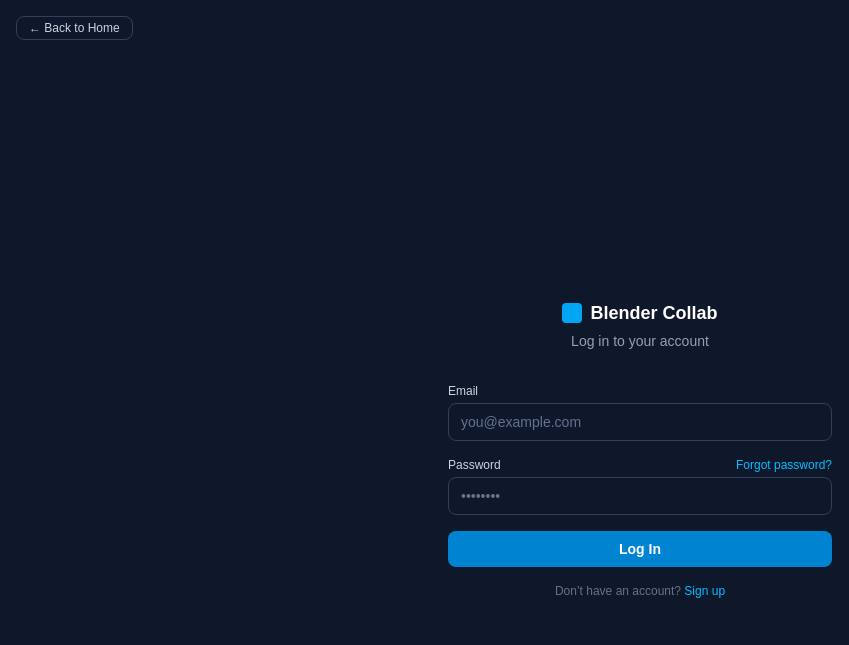
Test: LoginPage › shows resend verification button on EMAIL_NOT_VERIFIED error
The width and height of the screenshot is (849, 645).
In the field with placeholder "you@example.com": (640, 422) [448,403,832,441], type "unverified@test.com"
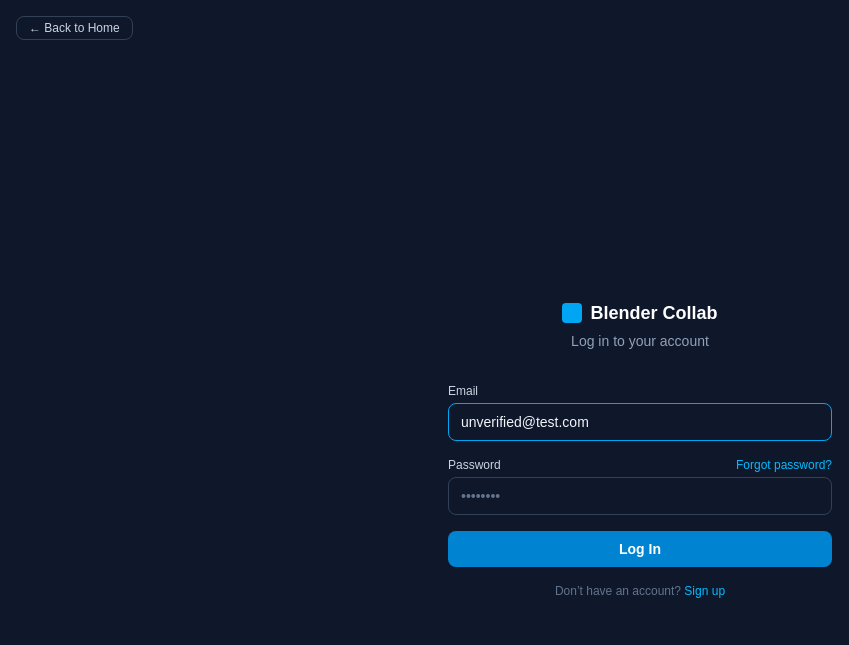
In the password field with placeholder "••••••••": (640, 496) [448,477,832,515], type "pass"
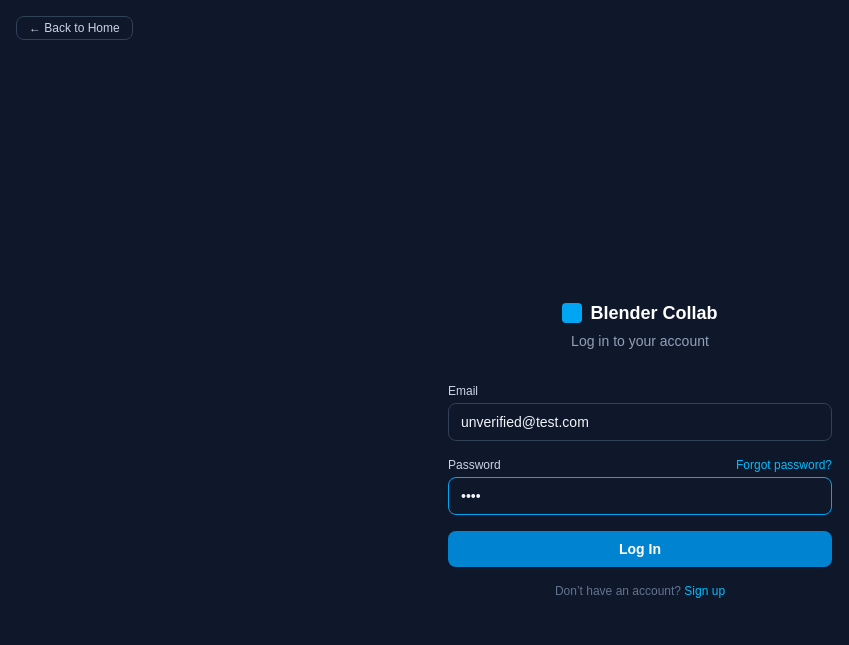
Click the button "Log In": (640, 549) [448,531,832,567]
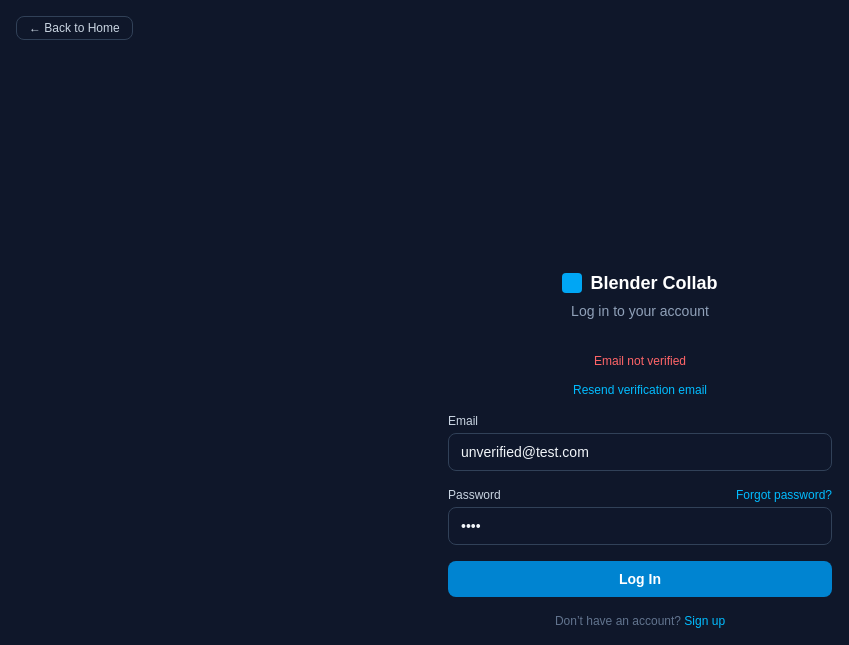
Expected: the button "Resend verification email" is shown, [573,382,707,398]
